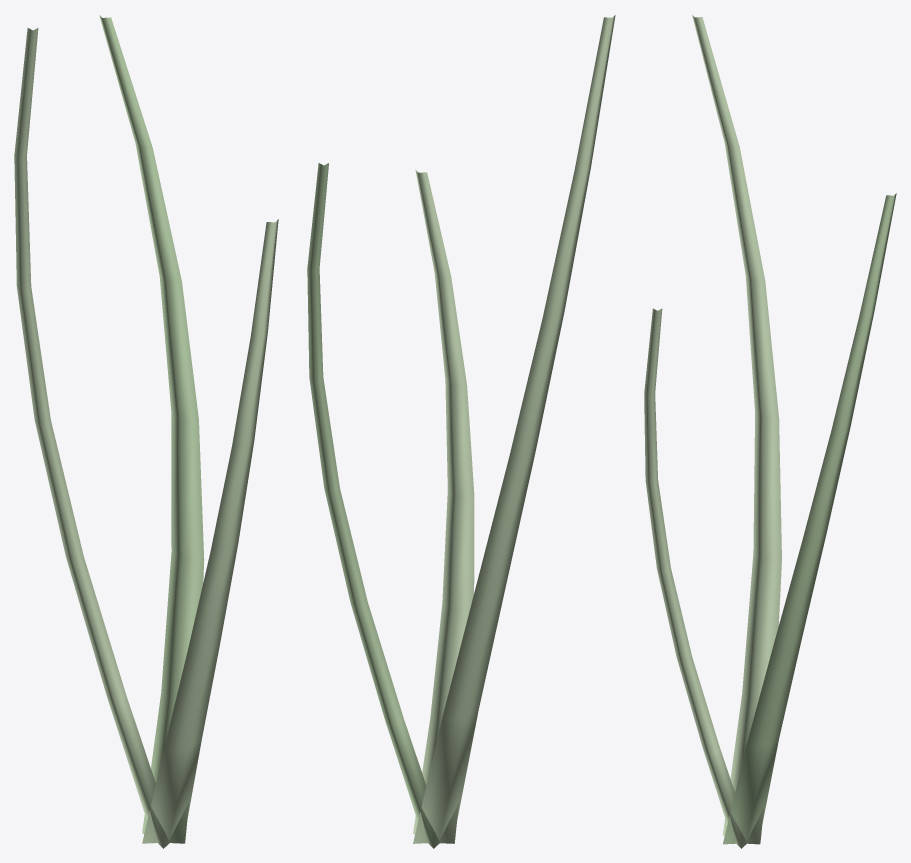
Rendered from chive_s.glb.
3 views of the same model, side by side, from view 1: azimuth 30°, elevation 25°; view 2: azimuth 150°, elevation 25°; view 3: azimuth 270°, elevation 25° (orthographic). The views are drawn at different scales.
Parts seen in each view (by area): view 1: blade1, blade0, blade2; view 2: blade2, blade0, blade1; view 3: blade2, blade1, blade0.
Part boxes in pixels (x1=…): blade1: x1=99, y1=15, x2=204, y2=843; blade0: x1=142, y1=219, x2=278, y2=843; blade2: x1=14, y1=28, x2=169, y2=848; blade2: x1=413, y1=15, x2=615, y2=843; blade0: x1=413, y1=169, x2=474, y2=843; blade1: x1=307, y1=163, x2=439, y2=848; blade2: x1=692, y1=15, x2=781, y2=844; blade1: x1=723, y1=193, x2=896, y2=844; blade0: x1=644, y1=308, x2=746, y2=848.
Bounding box in the file's own units: 0.0162 × 0.0583 × 0.0176.
